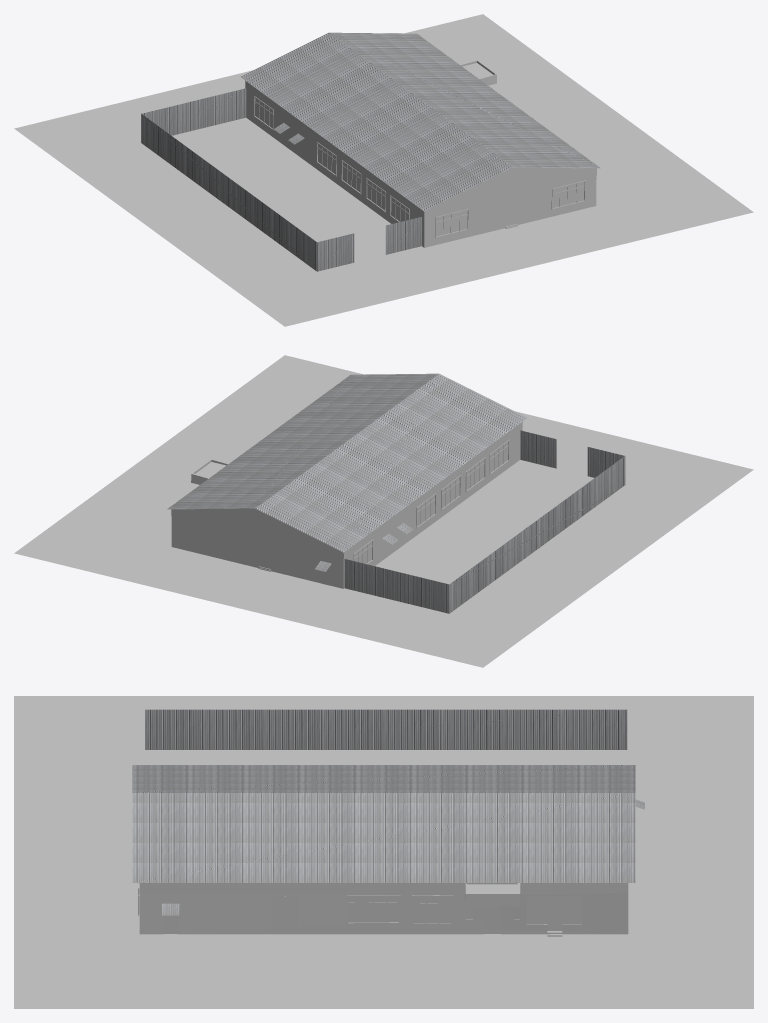
Rendered from пятерочка.fbx.
3 views of the same model, one above another, from view 1: azimuth 30°, elevation 25°; view 2: azimuth 150°, elevation 25°; view 3: azimuth 270°, elevation 25° (orthographic). The views are drawn at different scales.
Visible parts, largest first — view 1: Plane.001, Cube, Plane.007, Plane.008, Cube.019, Plane.006, Plane.005, Cube.021, Cube.022, Cube.023; view 2: Plane.001, Cube, Plane.007, Plane.008, Cube.012, Plane.005, Cube.016, Plane.006, Cube.004; view 3: Plane.001, Cube, Plane.007, Cube.011, Cube.015, Cube.003, Cube.002, Cube.013.
Boxes of the visible parts, x1,y1,x2,y2 form: Plane.001: [14, 14, 753, 326]; Cube: [240, 32, 600, 247]; Plane.007: [141, 113, 317, 271]; Plane.008: [141, 88, 246, 142]; Cube.019: [424, 173, 570, 217]; Plane.006: [316, 233, 354, 271]; Plane.005: [385, 217, 421, 254]; Cube.021: [489, 193, 534, 228]; Cube.022: [435, 209, 469, 238]; Cube.023: [551, 180, 585, 209]; Plane.001: [14, 355, 753, 667]; Cube: [167, 373, 527, 588]; Plane.007: [449, 456, 624, 613]; Plane.008: [344, 559, 449, 613]; Cube.012: [171, 509, 317, 551]; Plane.005: [520, 430, 556, 468]; Cube.016: [242, 536, 286, 571]; Plane.006: [587, 447, 625, 484]; Cube.004: [194, 524, 217, 553]; Plane.001: [14, 696, 753, 1008]; Cube: [132, 765, 635, 934]; Plane.007: [145, 709, 627, 749]; Cube.011: [235, 883, 465, 893]; Cube.015: [526, 896, 581, 936]; Cube.003: [346, 895, 400, 924]; Cube.002: [272, 896, 297, 930]; Cube.013: [183, 883, 234, 893].
Bounding box in the file's own units: 2490 × 316 × 2490.
